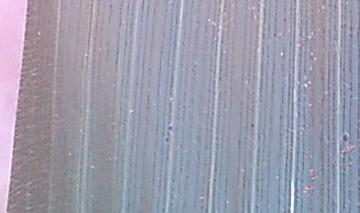tarspot: (339, 129, 350, 144), (163, 123, 175, 133), (246, 120, 257, 130), (163, 134, 170, 146)
